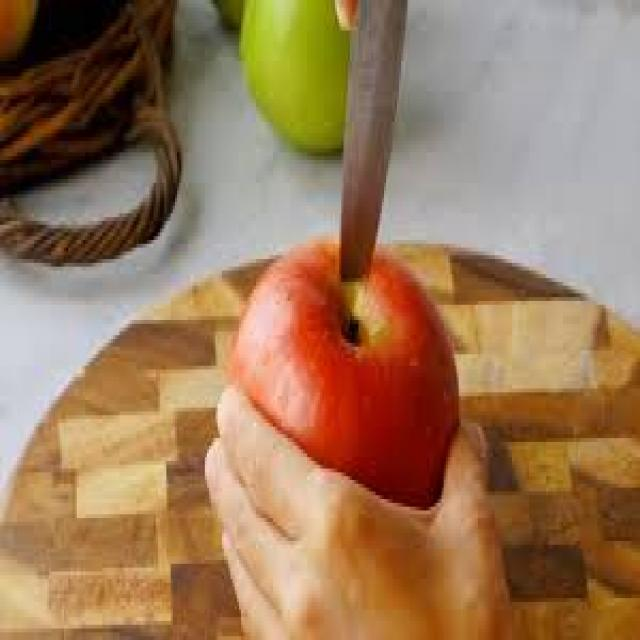Apple: (230, 232, 463, 499), (240, 0, 362, 157)
